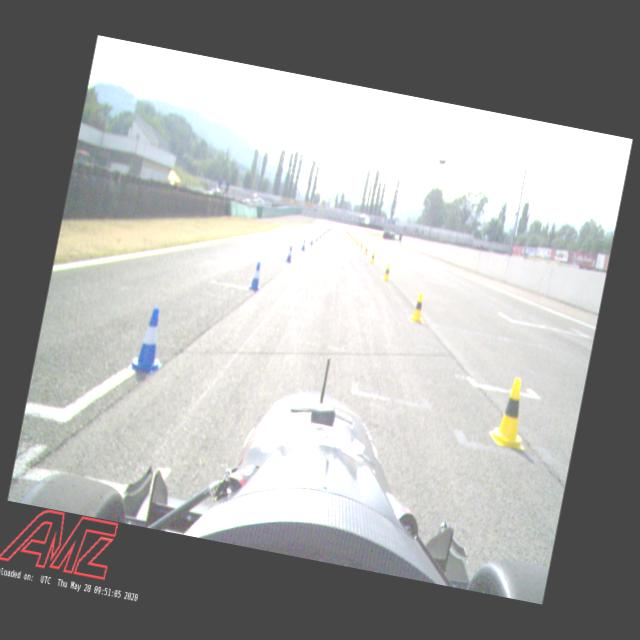blue_cone: (128, 304, 172, 376), (247, 260, 266, 293), (284, 245, 296, 264), (300, 238, 307, 251), (310, 236, 314, 246), (316, 233, 320, 241), (318, 232, 322, 239)
yellow_cone: (487, 375, 538, 452), (409, 291, 429, 325), (382, 263, 392, 282), (369, 251, 376, 264), (363, 244, 369, 256), (359, 242, 364, 250), (353, 236, 358, 244), (356, 240, 360, 247), (350, 233, 353, 240), (352, 235, 355, 241), (349, 233, 351, 237)
